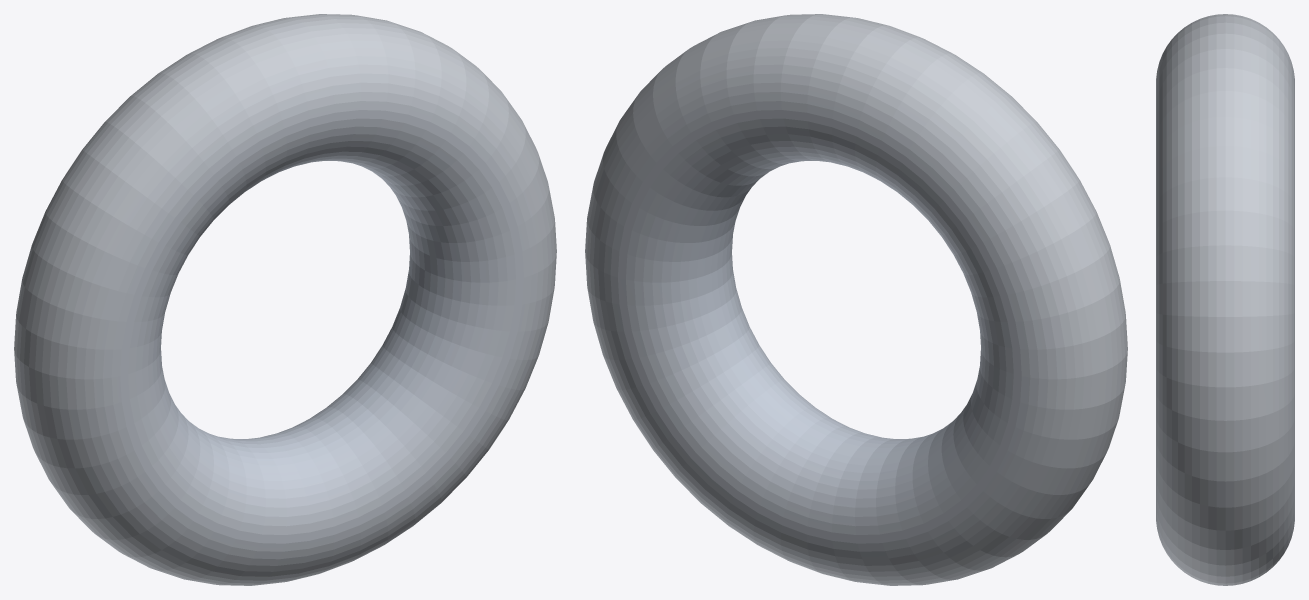
3 views of the same model, side by side, from view 1: azimuth 30°, elevation 25°; view 2: azimuth 150°, elevation 25°; view 3: azimuth 270°, elevation 25° (orthographic). The views are drawn at different scales.
Parts seen in each view (by area): view 1: world; view 2: world; view 3: world.
Part boxes in pixels (x1=…): world: x1=14, y1=14, x2=556, y2=585; world: x1=585, y1=14, x2=1127, y2=585; world: x1=1156, y1=14, x2=1294, y2=585.
Bounding box in the file's own units: 24.67 × 24.62 × 5.99.
